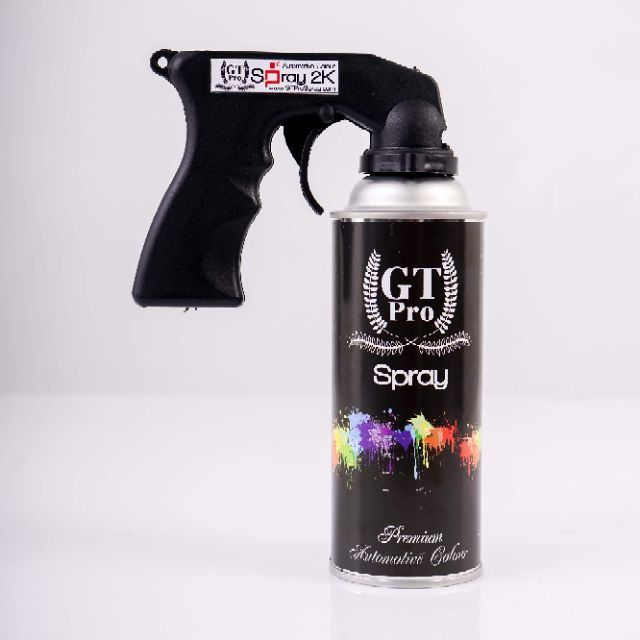Aerosol_cans: (324, 167, 492, 590)
